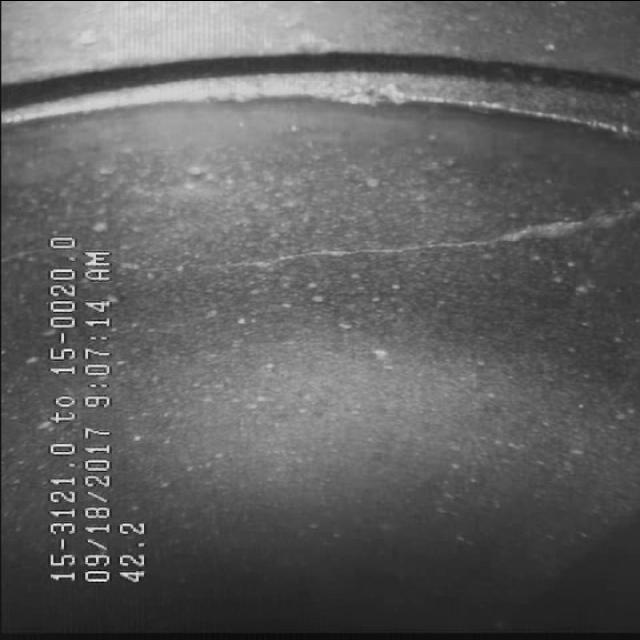Crack: (158, 186, 598, 297)
